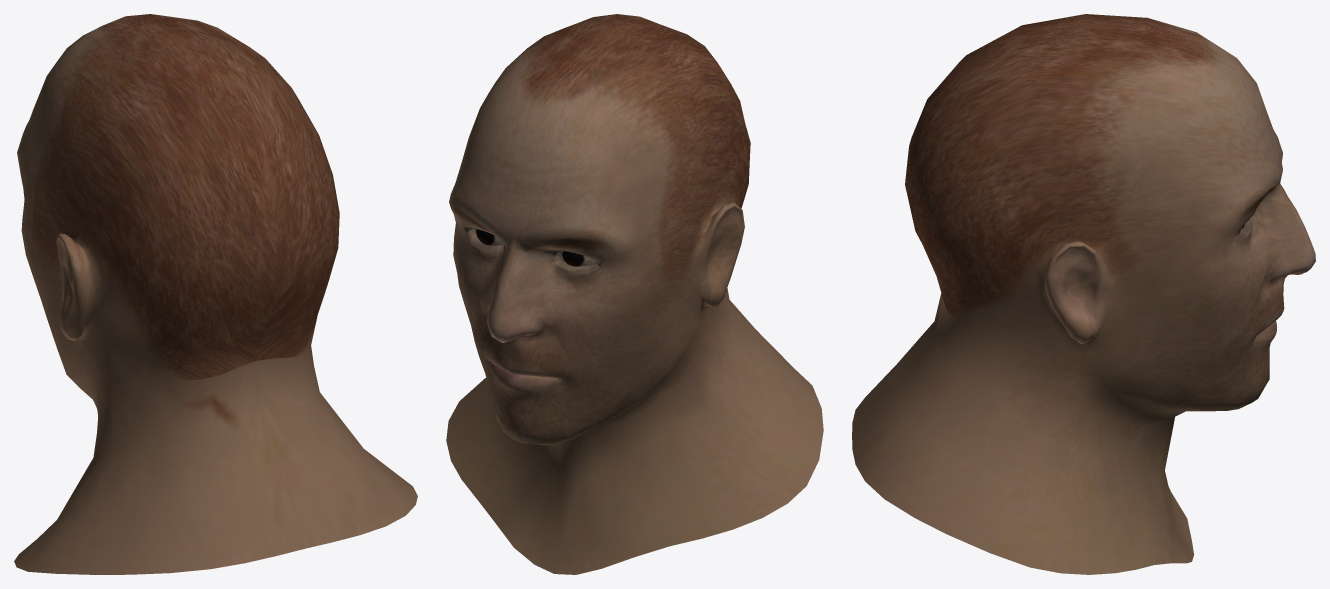
The model's file is G3_Head_Hero_Myrtana_Animated_03_S29.obj.
3 views of the same model, side by side, from view 1: azimuth 30°, elevation 25°; view 2: azimuth 150°, elevation 25°; view 3: azimuth 270°, elevation 25° (orthographic). The views are drawn at different scales.
Parts seen in each view (by area): view 1: G3_Animation_Head_Main_03; view 2: G3_Animation_Head_Main_03; view 3: G3_Animation_Head_Main_03.
Part boxes in pixels (box(x1,y1,x2,y2)): G3_Animation_Head_Main_03: box(14, 14, 417, 574); G3_Animation_Head_Main_03: box(446, 14, 823, 574); G3_Animation_Head_Main_03: box(852, 14, 1315, 574).
Bounding box in the file's own units: 0.2428 × 0.3384 × 0.2688.
